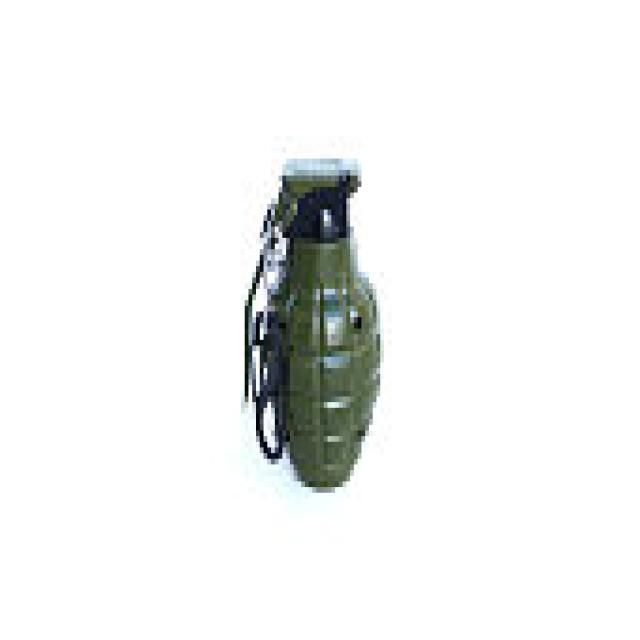grenade: (236, 151, 390, 494)
